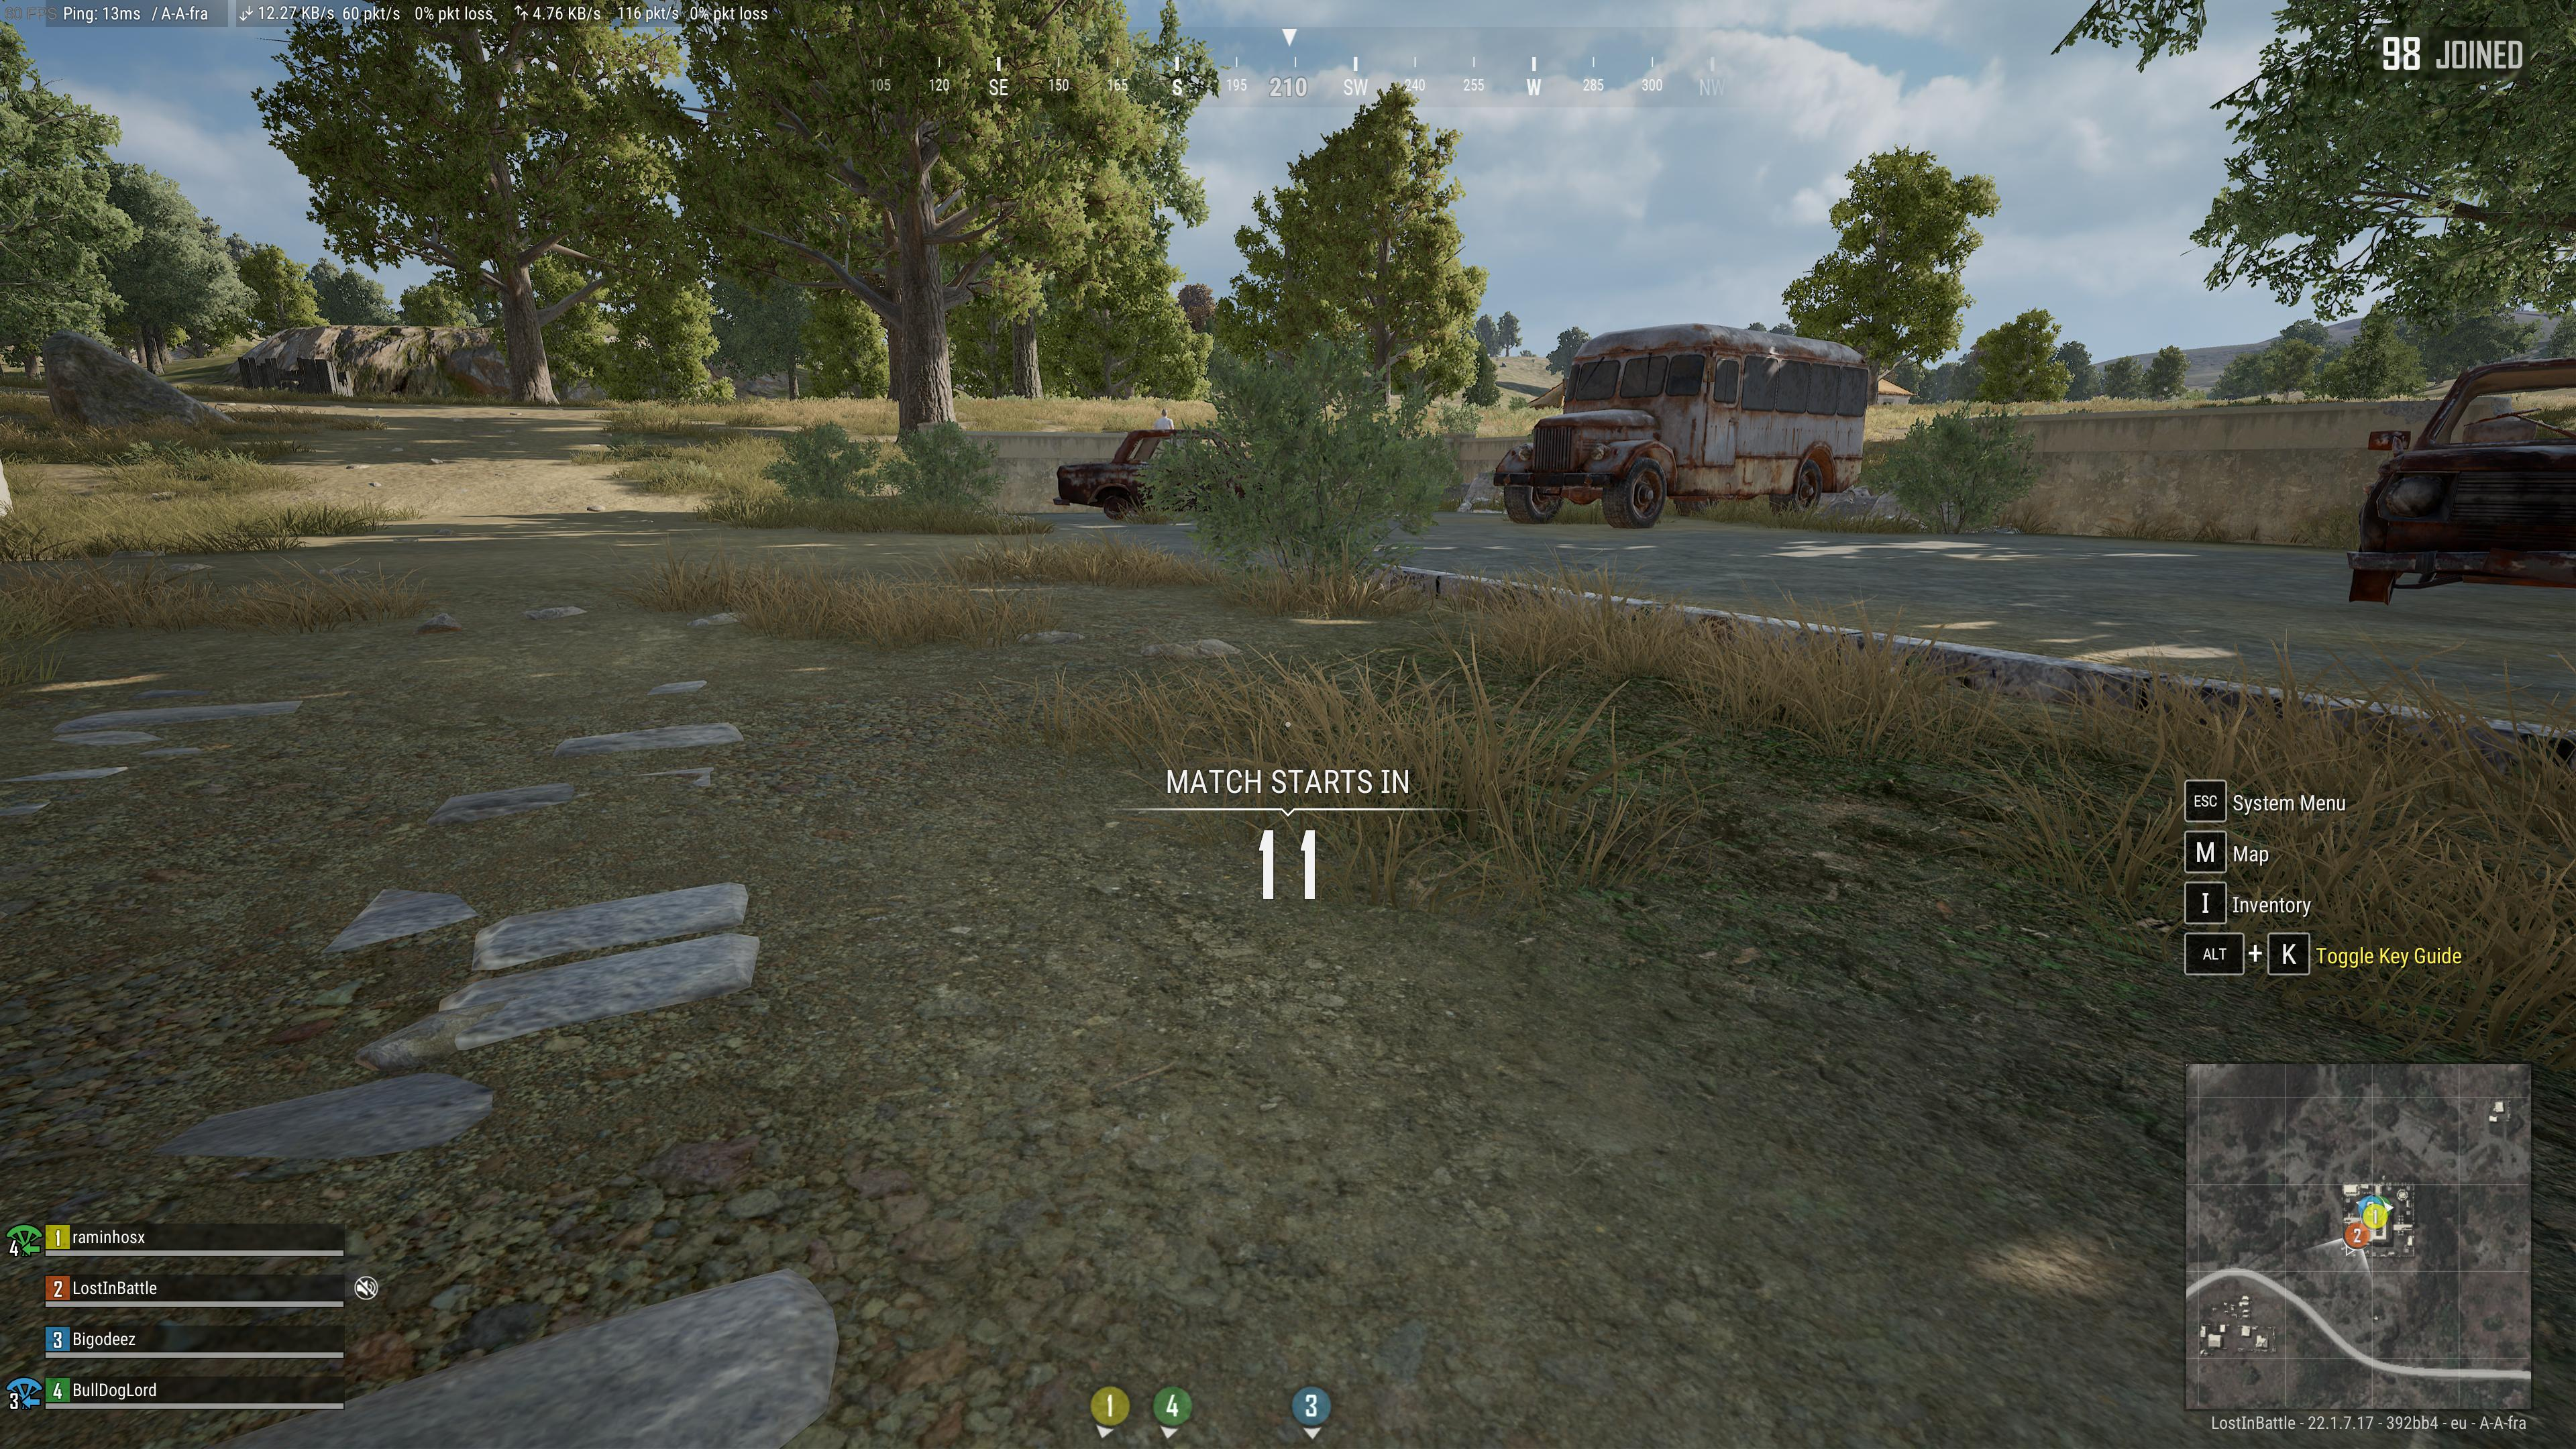enemy: (2342, 435, 2459, 600), (1152, 409, 1175, 428)
enemy_head: (1161, 409, 1168, 418)
